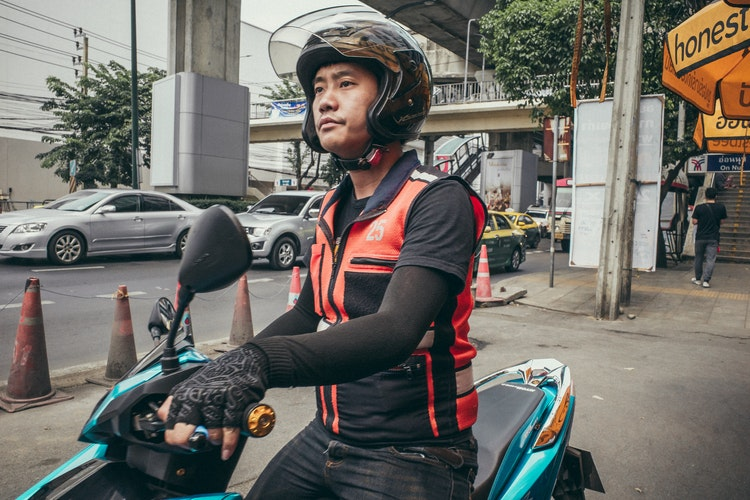helmet: (270, 12, 441, 152)
